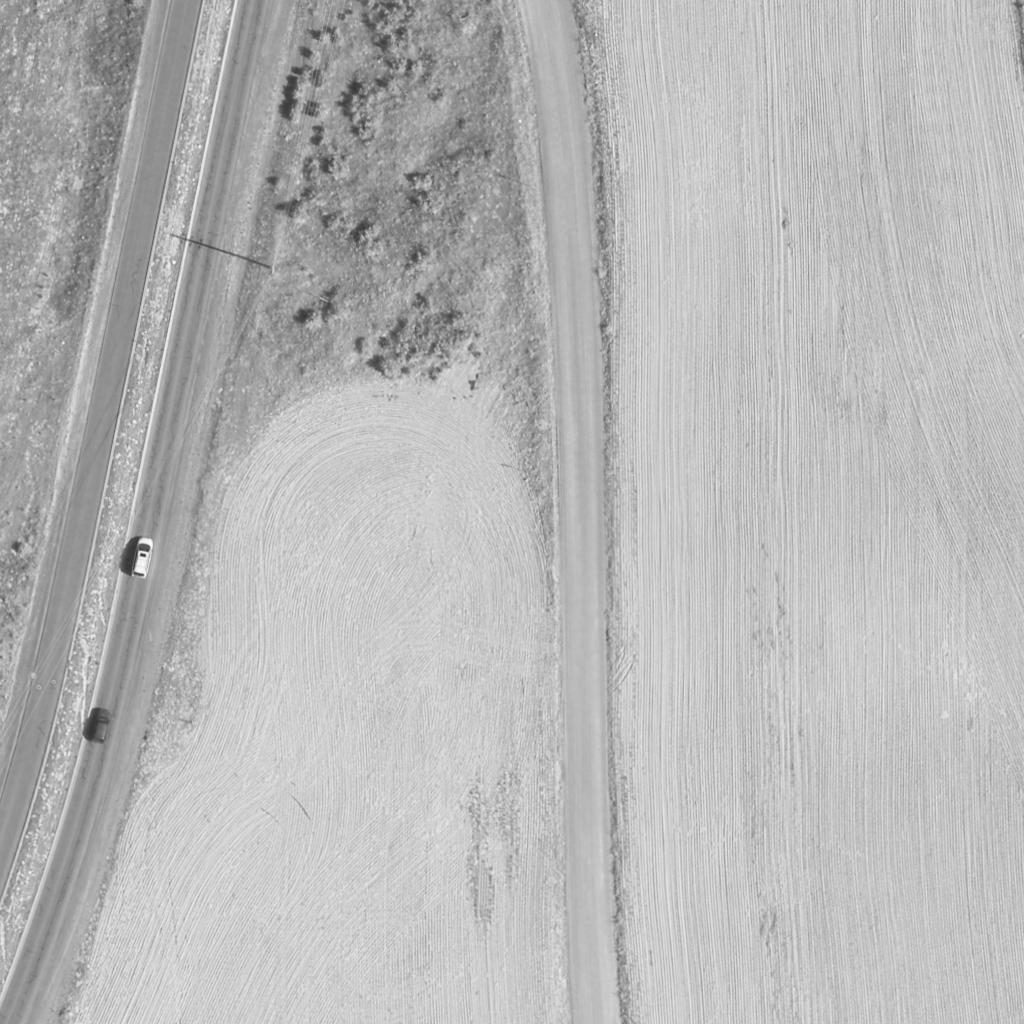vehicle: (133, 536, 155, 580), (90, 710, 114, 748)
